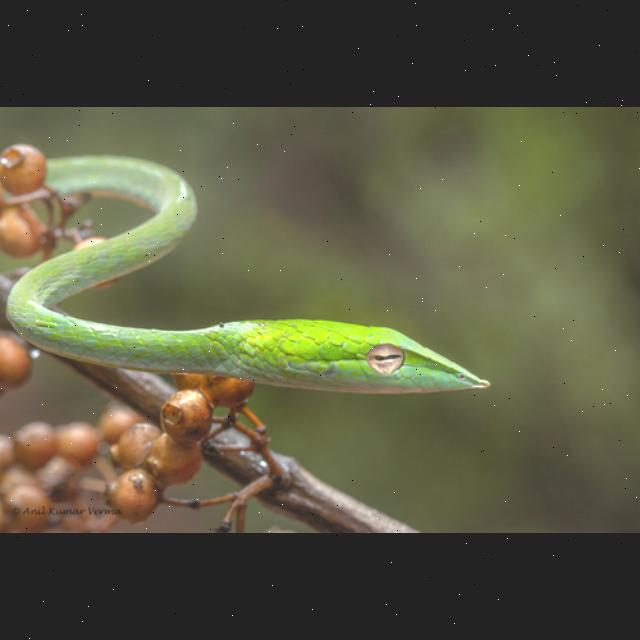snake: (1, 147, 493, 420)
